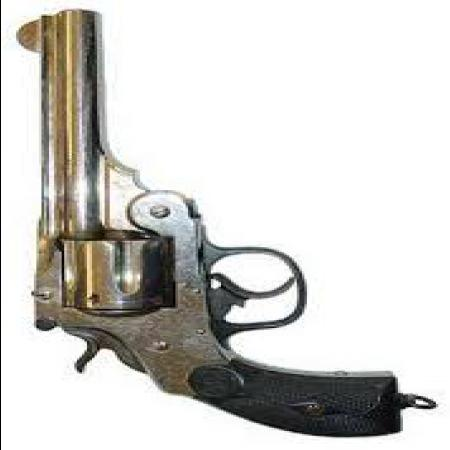Pistol: (13, 9, 402, 439)
